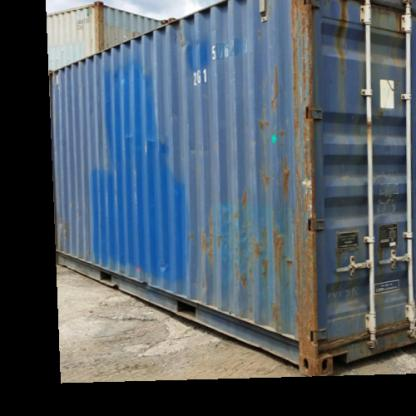Damage: (286, 1, 326, 358), (239, 67, 287, 202), (180, 197, 262, 274), (240, 209, 290, 295)
